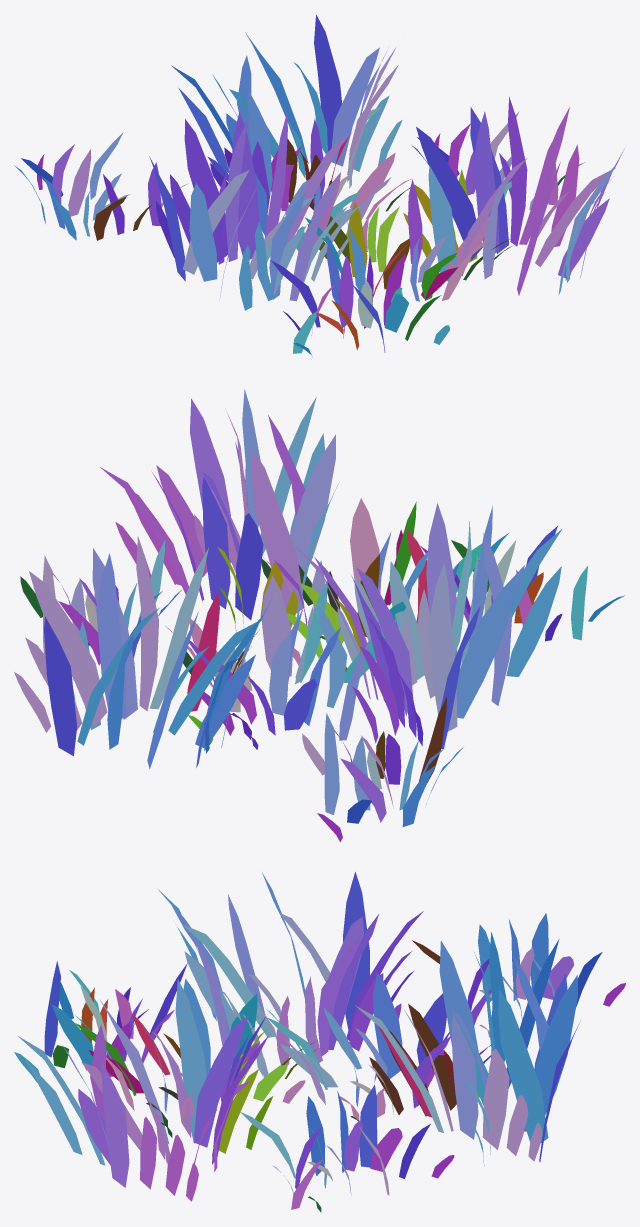
File: SM_Grass_Group_01_PivotBake.fbx
3 renders of one model, top to bottom at view 1: azimuth 30°, elevation 25°; view 2: azimuth 150°, elevation 25°; view 3: azimuth 270°, elevation 25°, orthographic. The views are drawn at different scales.
Visible parts, largest first — view 1: SM_Grass_Group_01_LOD0_Detached_079; view 2: SM_Grass_Group_01_LOD0_Detached_079; view 3: SM_Grass_Group_01_LOD0_Detached_079.
Boxes of the visible parts, x1,y1,x2,y2 form: SM_Grass_Group_01_LOD0_Detached_079: [14, 14, 624, 356]; SM_Grass_Group_01_LOD0_Detached_079: [14, 389, 624, 841]; SM_Grass_Group_01_LOD0_Detached_079: [14, 872, 625, 1212].
Bounding box in the file's own units: 3.98 × 1.22 × 4.11.
